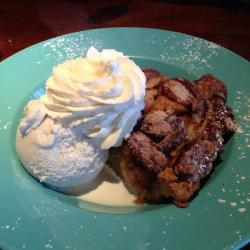apple_pie: (119, 66, 238, 206)
chantilly: (49, 52, 145, 149)
icecream: (12, 99, 111, 195)
